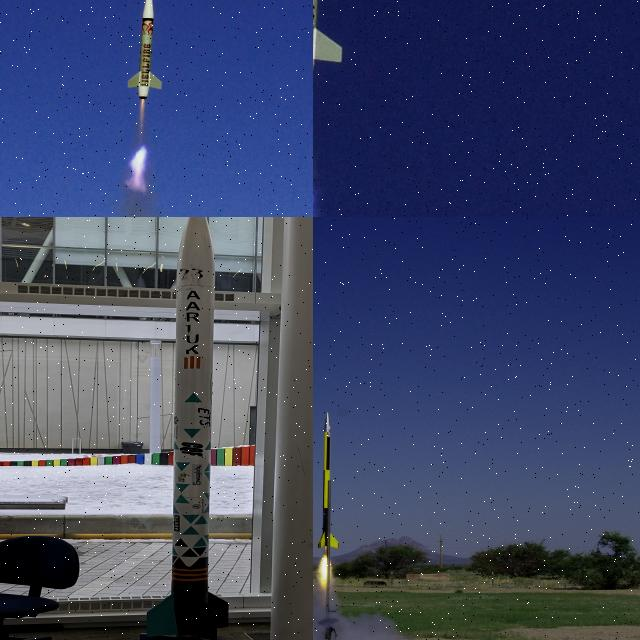Rocket: (147, 217, 229, 640), (126, 0, 163, 101), (316, 411, 341, 551)
